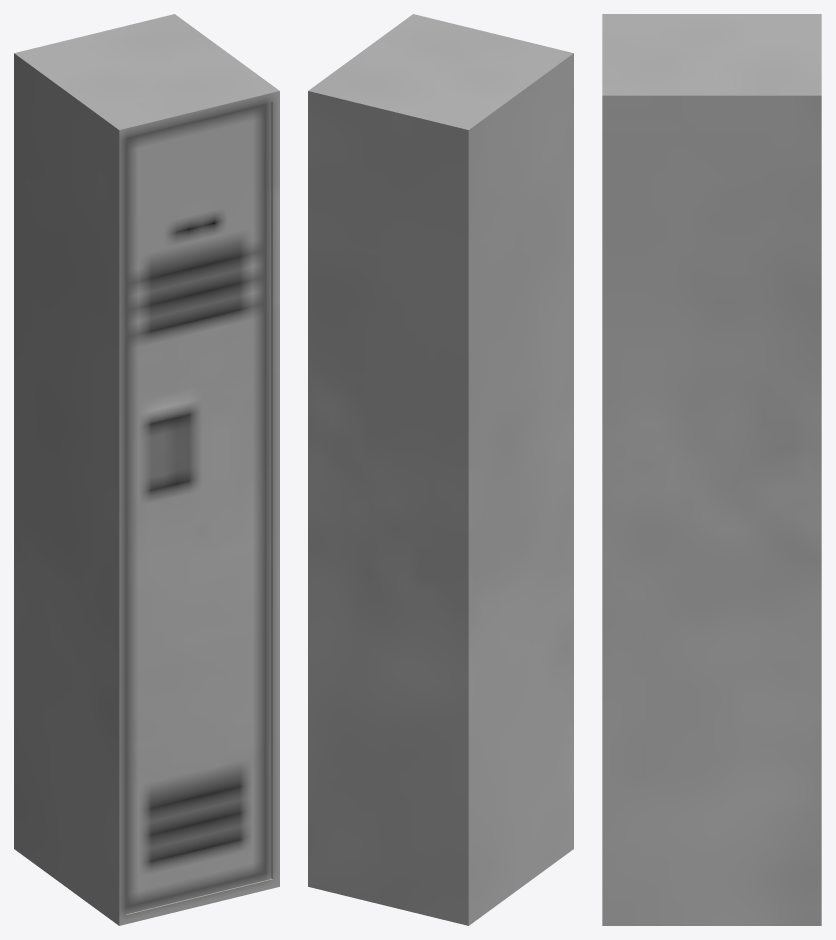
The model's file is Locker.fbx.
3 views of the same model, side by side, from view 1: azimuth 30°, elevation 25°; view 2: azimuth 150°, elevation 25°; view 3: azimuth 270°, elevation 25° (orthographic). The views are drawn at different scales.
Parts seen in each view (by area): view 1: Cube.085, Cube.086; view 2: Cube.085; view 3: Cube.085.
Boxes of the visible parts, x1,y1,x2,y2 form: Cube.085: (14, 14, 279, 925); Cube.086: (126, 102, 271, 914); Cube.085: (308, 14, 573, 925); Cube.085: (602, 14, 821, 925).
Bounding box in the file's own units: 257 × 1218 × 292.
